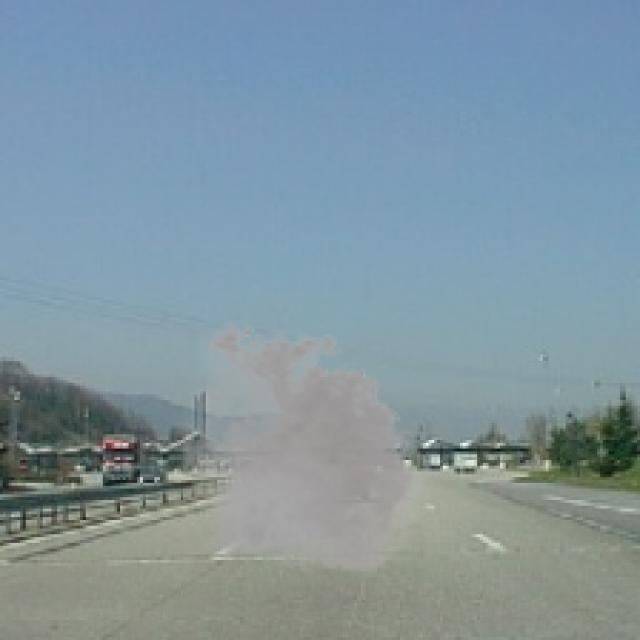smoke: (166, 317, 434, 583)
